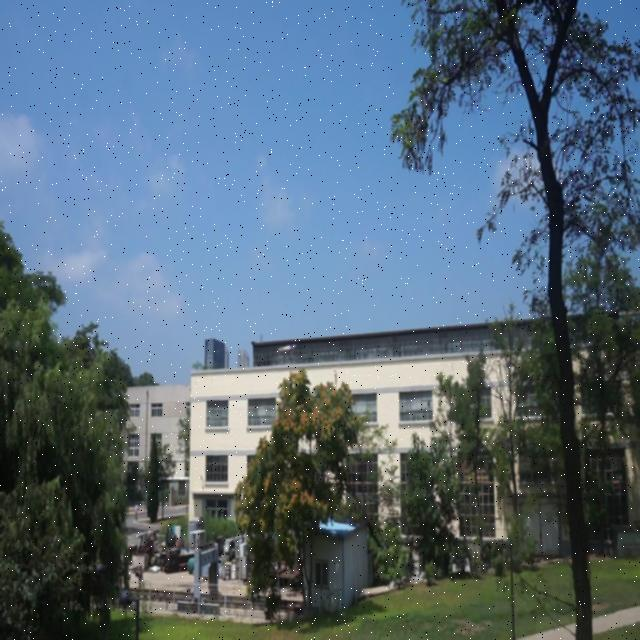UAV: (278, 345, 298, 355)
